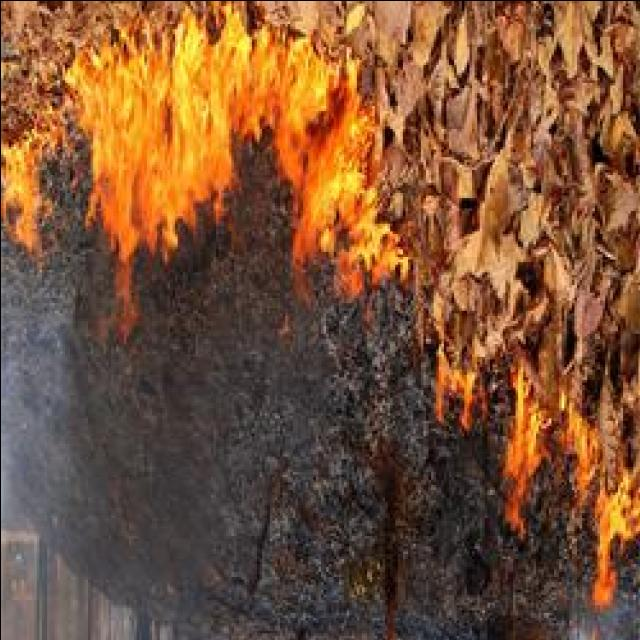fire: (80, 38, 228, 228), (272, 44, 374, 212), (0, 125, 51, 264)
smoke: (0, 255, 72, 577)
